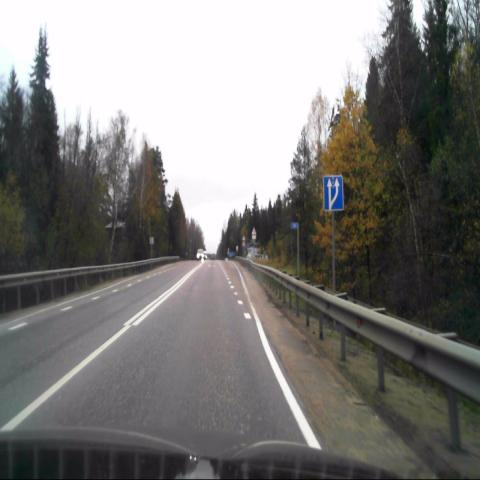5_15_3: (324, 175, 343, 211)
